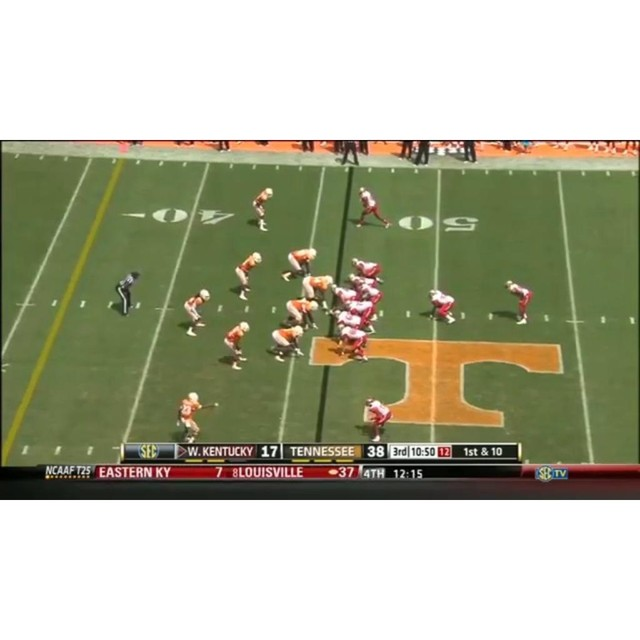american-football-player: (177, 391, 216, 444), (355, 186, 391, 228), (362, 396, 393, 442), (234, 251, 263, 300), (268, 325, 306, 362), (224, 321, 251, 371), (183, 288, 211, 336), (301, 274, 335, 313), (504, 280, 533, 325), (281, 247, 318, 282), (338, 326, 370, 363), (285, 298, 319, 330), (345, 300, 378, 332), (249, 187, 273, 231), (426, 289, 456, 324), (351, 258, 384, 285), (330, 309, 364, 335), (329, 283, 359, 309)
referee: (109, 269, 142, 318)
